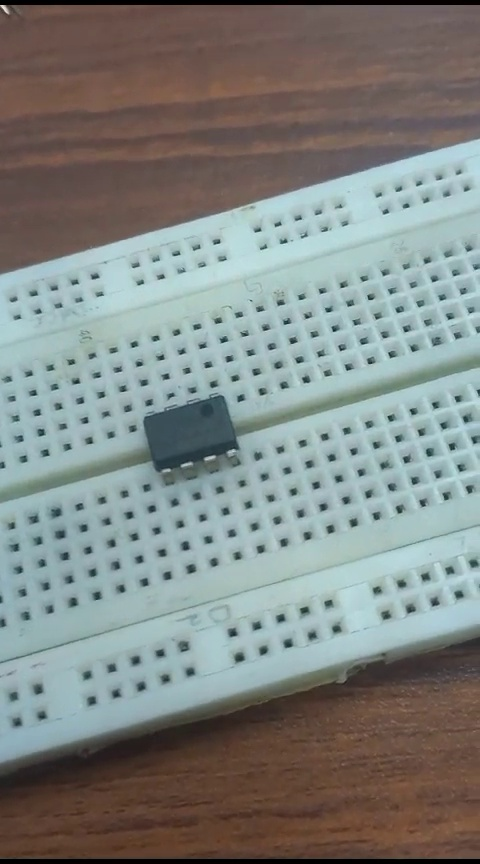IC: (127, 392, 246, 475)
